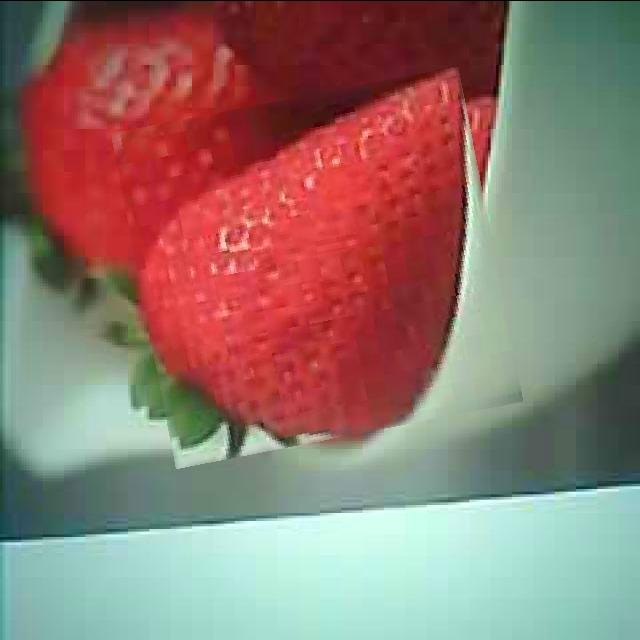strawberry: (125, 80, 509, 452)
